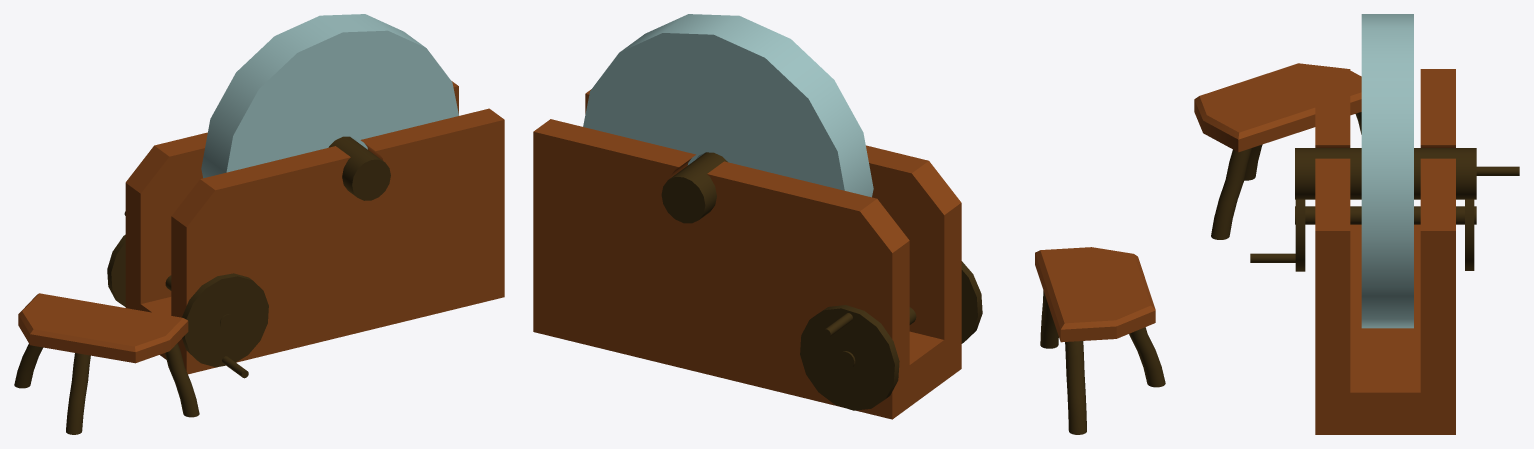
File: grajnder.FBX
3 views of the same model, side by side, from view 1: azimuth 30°, elevation 25°; view 2: azimuth 150°, elevation 25°; view 3: azimuth 270°, elevation 25° (orthographic). The views are drawn at different scales.
Parts seen in each view (by area): view 1: Box634, Cylinder003, Box635, Cylinder006, Cylinder005, Cylinder067, Cylinder008, Cylinder007; view 2: Box634, Cylinder003, Cylinder006, Box635, Cylinder005, Cylinder007, Cylinder067, Cylinder008; view 3: Box634, Cylinder003, Box635, Cylinder005, Cylinder006, Cylinder008, Cylinder067.
Part boxes in pixels (x1,y1,x2,y2): Box634: (125, 81, 504, 374); Cylinder003: (201, 14, 458, 178); Box635: (18, 293, 188, 363); Cylinder006: (107, 211, 268, 378); Cylinder005: (328, 136, 390, 200); Cylinder067: (66, 353, 90, 434); Cylinder008: (165, 343, 199, 417); Cylinder007: (14, 344, 43, 388); Box634: (533, 89, 961, 419); Cylinder003: (583, 14, 873, 197); Cylinder006: (800, 261, 982, 410); Box635: (1035, 247, 1155, 342); Cylinder005: (661, 152, 727, 223); Cylinder007: (1065, 341, 1086, 434); Cylinder067: (1129, 327, 1165, 387); Cylinder008: (1040, 290, 1058, 348); Box634: (1315, 69, 1455, 434); Cylinder003: (1361, 14, 1413, 328); Box635: (1194, 63, 1361, 152); Cylinder005: (1295, 148, 1476, 199); Cylinder006: (1250, 166, 1519, 271); Cylinder008: (1211, 148, 1251, 239); Cylinder067: (1244, 144, 1262, 180).
Size of the model in its own units: 137 by 76.97 by 69.41.
